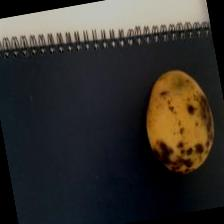Mango Overripe: (135, 60, 224, 182)
